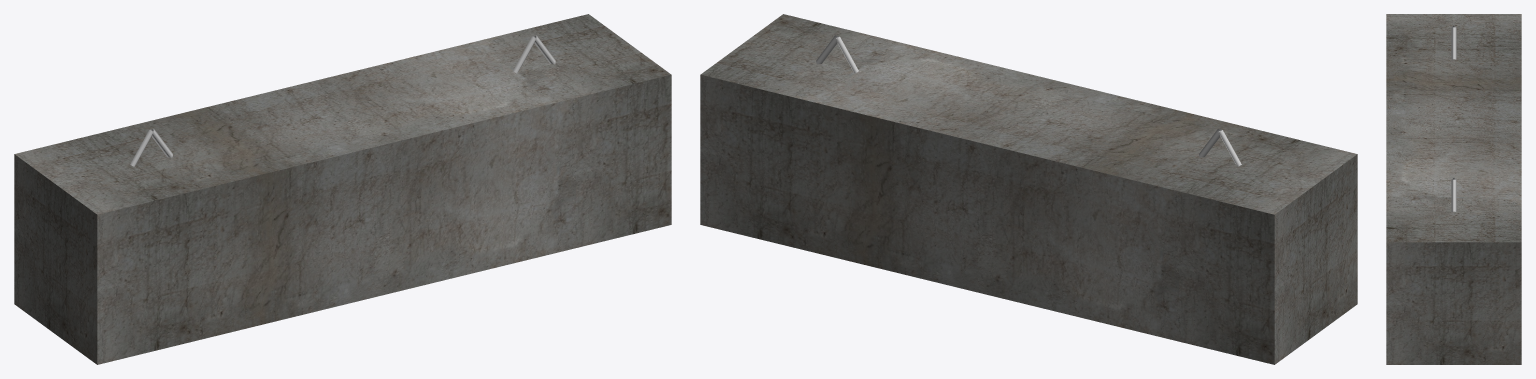
Rendered from S1U_FBSBlock.fbx.
The picture shows the model from 3 angles, left to right: view 1: azimuth 30°, elevation 25°; view 2: azimuth 150°, elevation 25°; view 3: azimuth 270°, elevation 25°; orthographic projection. The views are drawn at different scales.
Parts seen in each view (by area): view 1: S1U_FBSBlock; view 2: S1U_FBSBlock; view 3: S1U_FBSBlock.
Boxes of the visible parts, bbox=[...] form: S1U_FBSBlock: bbox=[14, 14, 671, 364]; S1U_FBSBlock: bbox=[700, 14, 1357, 364]; S1U_FBSBlock: bbox=[1386, 14, 1521, 364].
Bounding box in the file's own units: 2.4 × 0.7267 × 0.6.
